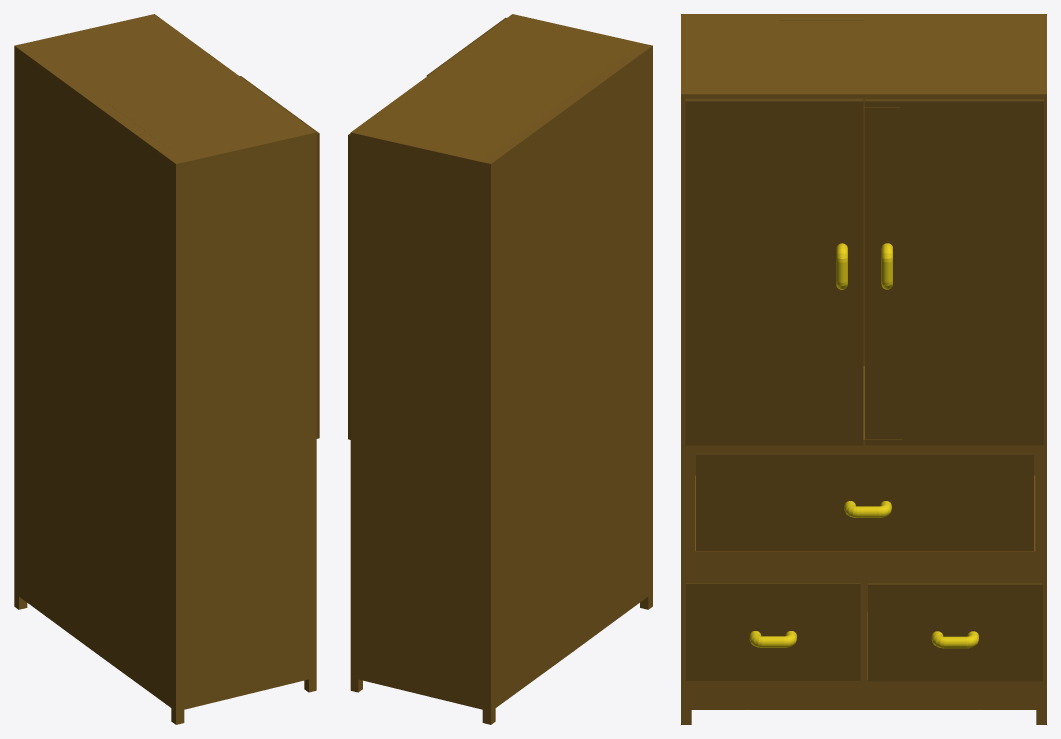
Rendered from cupboard.glb.
The picture shows the model from 3 angles, left to right: view 1: azimuth 30°, elevation 25°; view 2: azimuth 150°, elevation 25°; view 3: azimuth 270°, elevation 25°; orthographic projection. The views are drawn at different scales.
Parts seen in each view (by area): view 1: Cube, Cube.004; view 2: Cube, Cube.005; view 3: Cube, Cube.004, Cube.005, Cube.001, Cube.003, Cube.002.
Boxes of the visible parts, left/top/right/bottom form: Cube: left=14, top=14, right=316, bottom=724; Cube.004: left=240, top=76, right=319, bottom=438; Cube: left=350, top=14, right=652, bottom=724; Cube.005: left=348, top=133, right=350, bottom=439; Cube: left=681, top=14, right=1046, bottom=724; Cube.004: left=685, top=98, right=863, bottom=445; Cube.005: left=865, top=99, right=1043, bottom=445; Cube.001: left=696, top=453, right=1033, bottom=550; Cube.003: left=868, top=583, right=1042, bottom=681; Cube.002: left=686, top=583, right=860, bottom=680.
Bounding box in the file's own units: 4.55 × 14.92 × 7.81.
